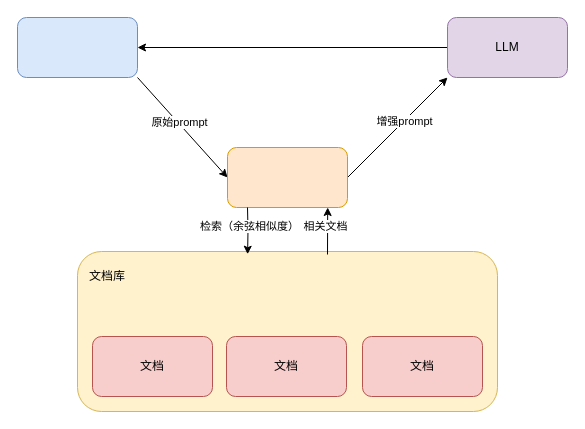
Some shapes in this 585 by 429 pixel diagram are drawn without their labels. The shapes that lost their labels are listed below. From the top down, each one's centre as x and y in pixels, then its label:
point (77, 47): 用户
point (287, 177): Retriever
